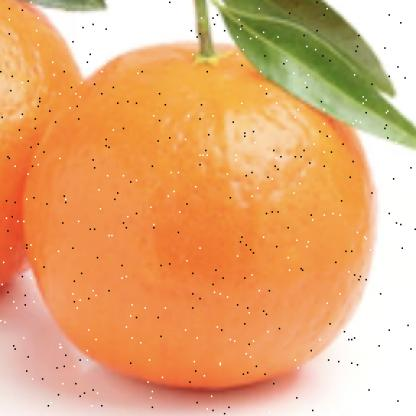orange: (24, 30, 375, 394)
